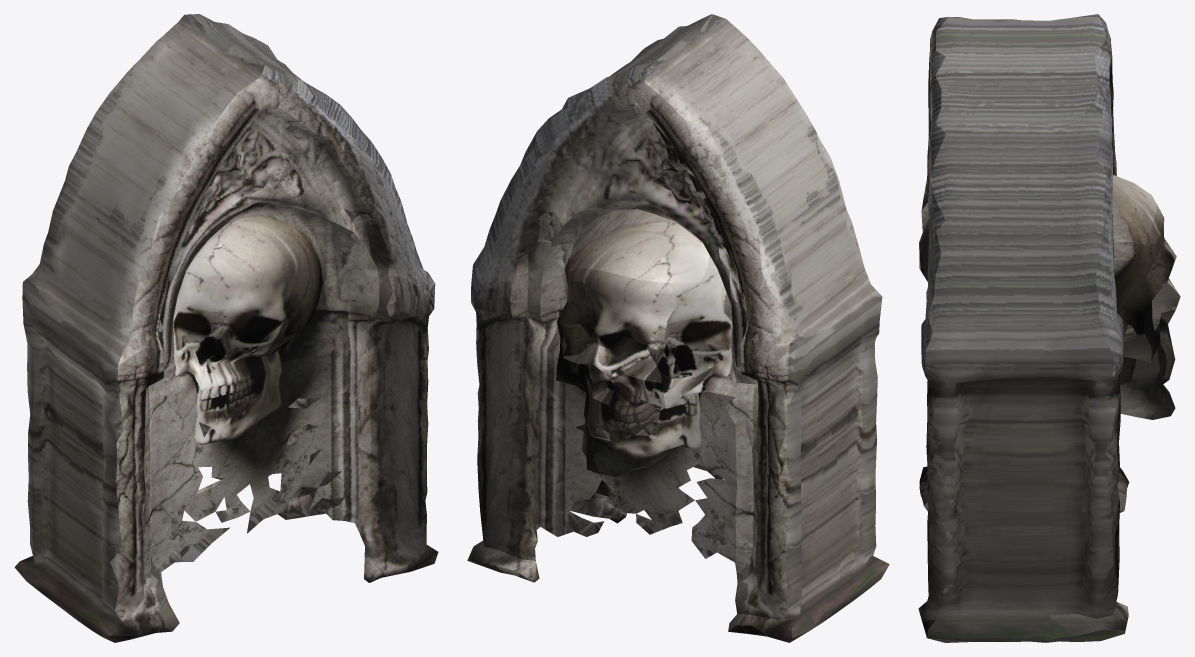
Rendered from grave_b.glb.
The picture shows the model from 3 angles, left to right: view 1: azimuth 30°, elevation 25°; view 2: azimuth 150°, elevation 25°; view 3: azimuth 270°, elevation 25°; orthographic projection. The views are drawn at different scales.
Parts seen in each view (by area): view 1: geometry_0; view 2: geometry_0; view 3: geometry_0.
Part boxes in pixels (x1,y1,x2,y2): geometry_0: [14, 14, 438, 642]; geometry_0: [467, 14, 889, 642]; geometry_0: [918, 14, 1180, 642].
Bounding box in the file's own units: 0.9092 × 1.4 × 0.6029.
Materials: 1 (1 with a texture image).
